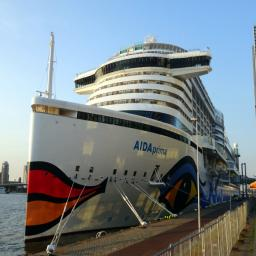cruises: (25, 23, 244, 241)
